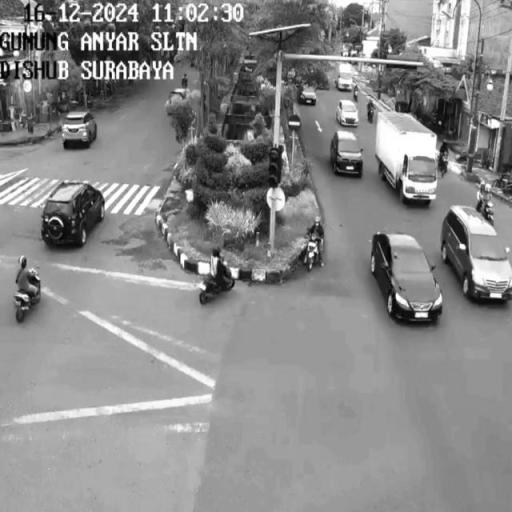car: (368, 233, 444, 323), (444, 209, 511, 304), (40, 182, 105, 249), (332, 132, 362, 180), (62, 112, 98, 147), (338, 101, 363, 127)
motorcycle: (197, 266, 232, 306), (18, 279, 41, 320), (302, 239, 324, 269), (478, 200, 498, 220)
truck: (378, 110, 438, 204), (438, 157, 454, 175)
